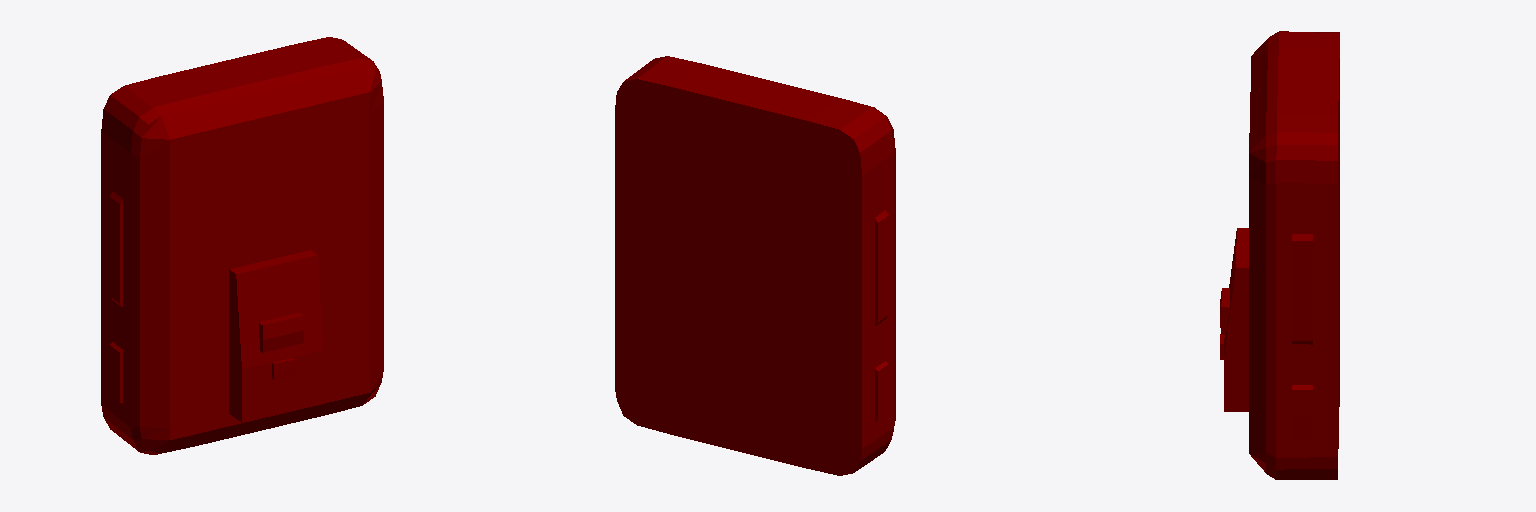
File: fusebox.obj
3 renders of one model, left to right at view 1: azimuth 30°, elevation 25°; view 2: azimuth 150°, elevation 25°; view 3: azimuth 270°, elevation 25°, orthographic.
Size of the model in its own units: 1.04 by 1.36 by 0.4255.